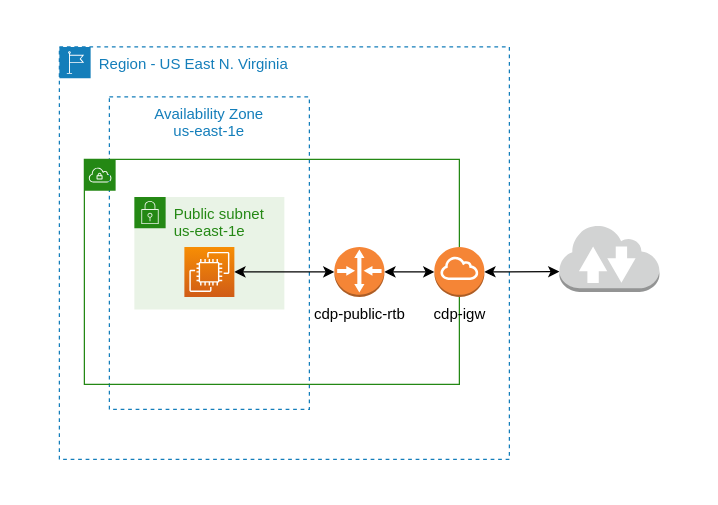
Image size: 718x505. Some labels were removed from this diagram. The box of each missing label's shape, as (x1, y1, x2, y2) in pixels:
cdp-ec2-instance-1: (183, 246, 234, 297)
Internet: (558, 223, 659, 292)
VPC: (83, 158, 459, 384)
